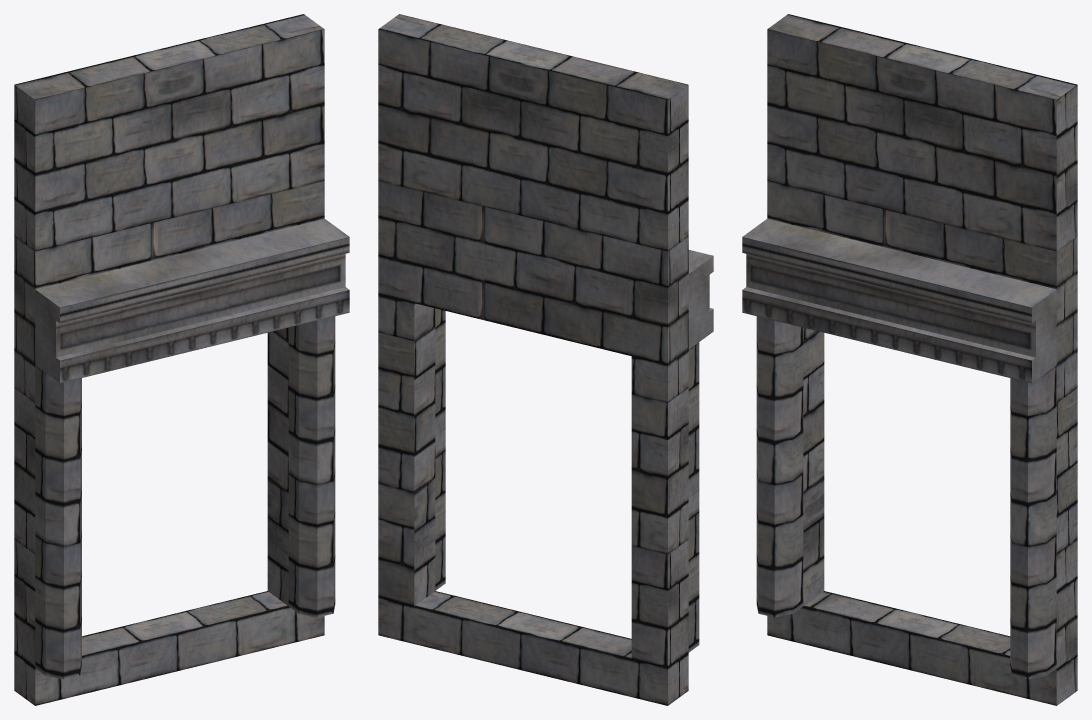
File: sanctum_doorway_01.glb
3 renders of one model, left to right at view 1: azimuth 30°, elevation 25°; view 2: azimuth 150°, elevation 25°; view 3: azimuth 330°, elevation 25°, orthographic.
Visible parts, largest first — view 1: sanctum_doorway_01; view 2: sanctum_doorway_01; view 3: sanctum_doorway_01.
Boxes of the visible parts, box(x1,y1,x2,y2) form: sanctum_doorway_01: box(14, 14, 349, 705); sanctum_doorway_01: box(378, 14, 713, 705); sanctum_doorway_01: box(742, 14, 1077, 705).
Bounding box in the file's own units: 8 × 16 × 2.19.
1 material, 1 textured.
